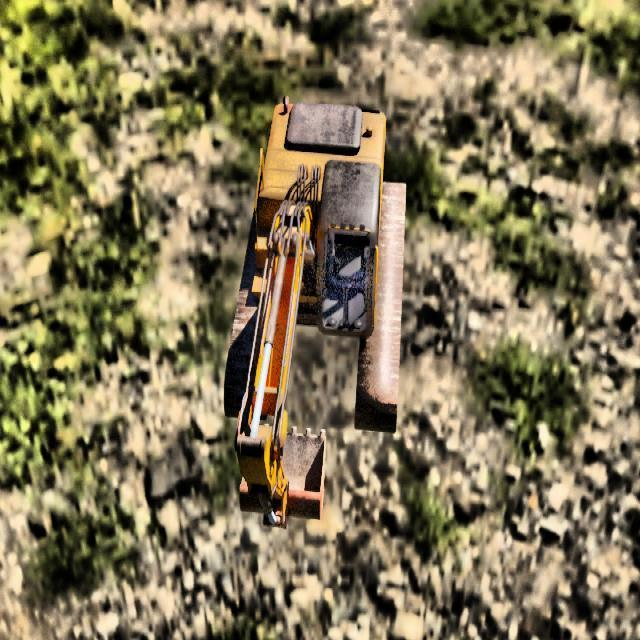excavator: (223, 94, 406, 530)
